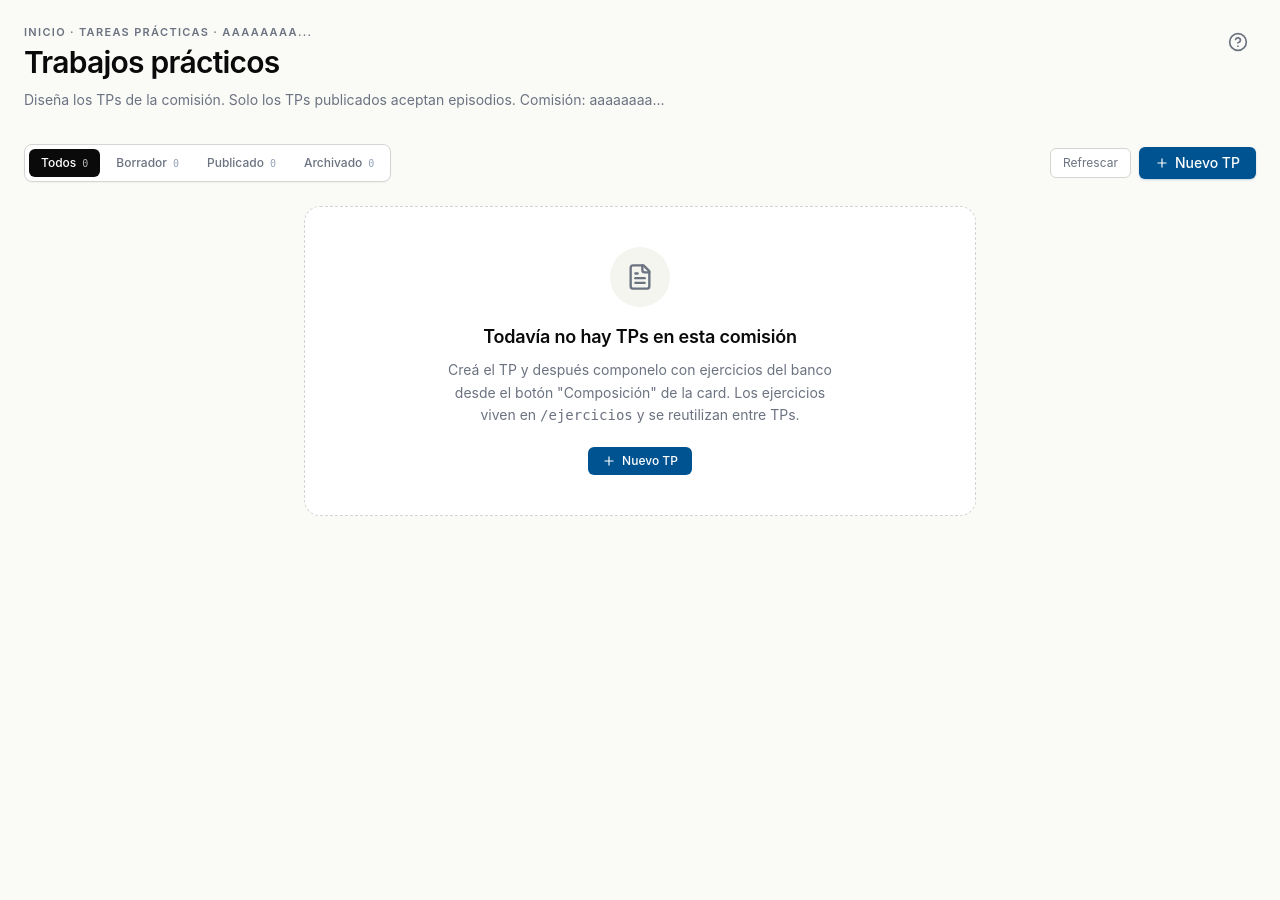
TareasPracticasView — BUG-01 el form de crear no arrastra datos › tambien resetea titulo y 'permite pausa' (no es un parche solo para codigo)
Click the 1st button "Nuevo TP".
click(1197, 163)  # box [1139,147,1256,179]
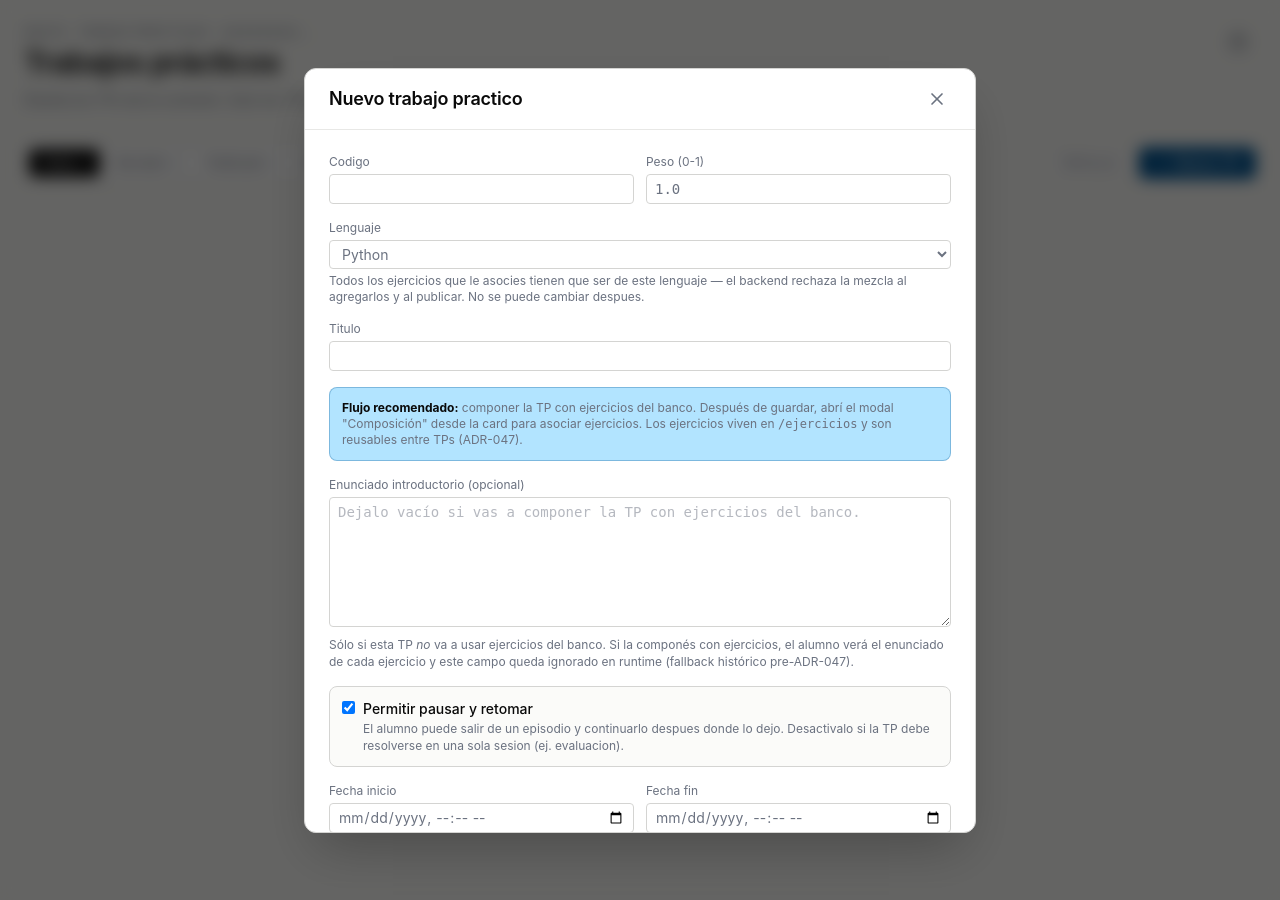
Now the checkbox with test id "tp-form-permite-pausa" is checked, box [342,701,355,714]
Type "Titulo del TP anterior" into the field with test id "tp-form-titulo".
click(640, 356); type("Titulo del TP anterior")  # box [329,340,951,370]
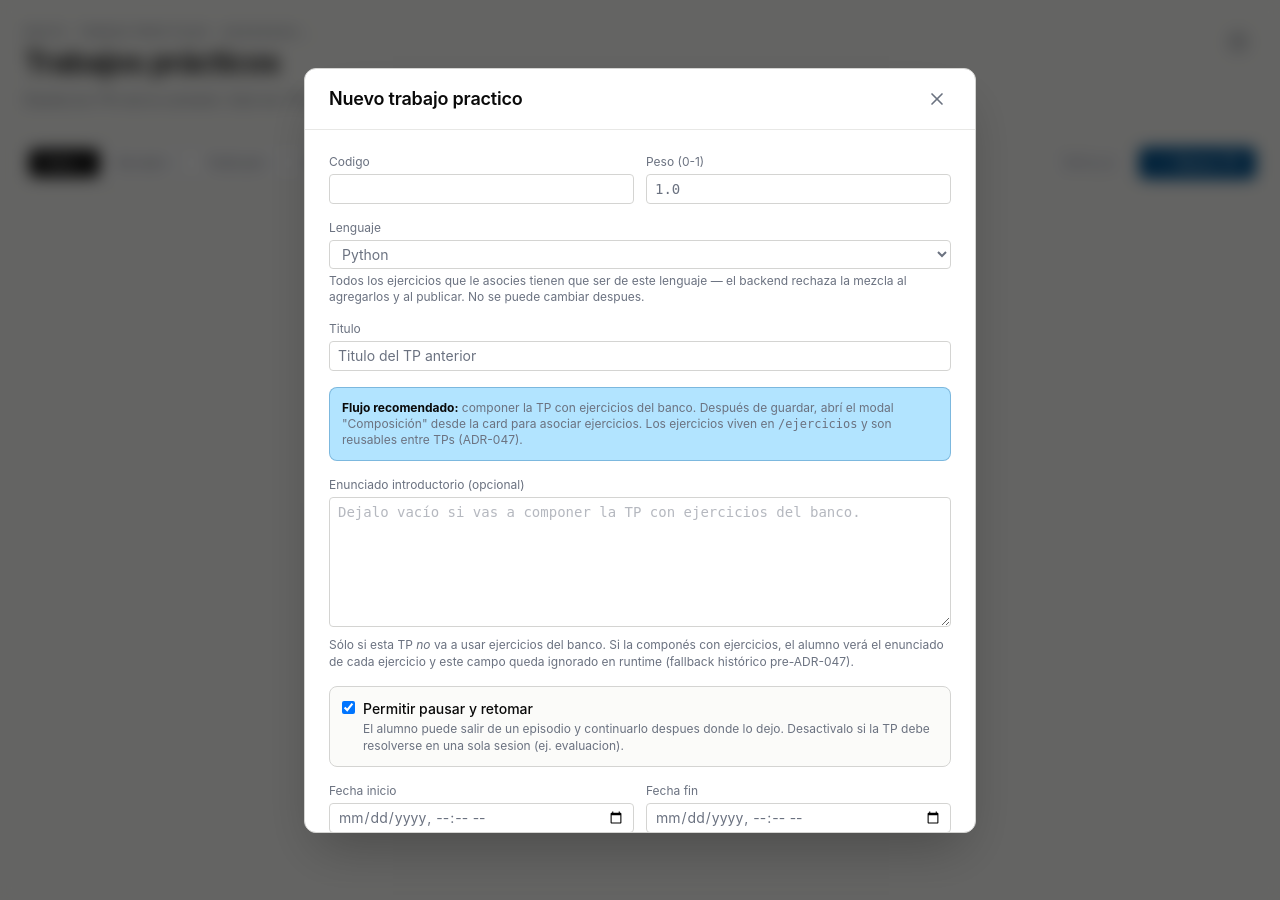
Click the checkbox with test id "tp-form-permite-pausa".
click(348, 708)  # box [342,701,355,714]
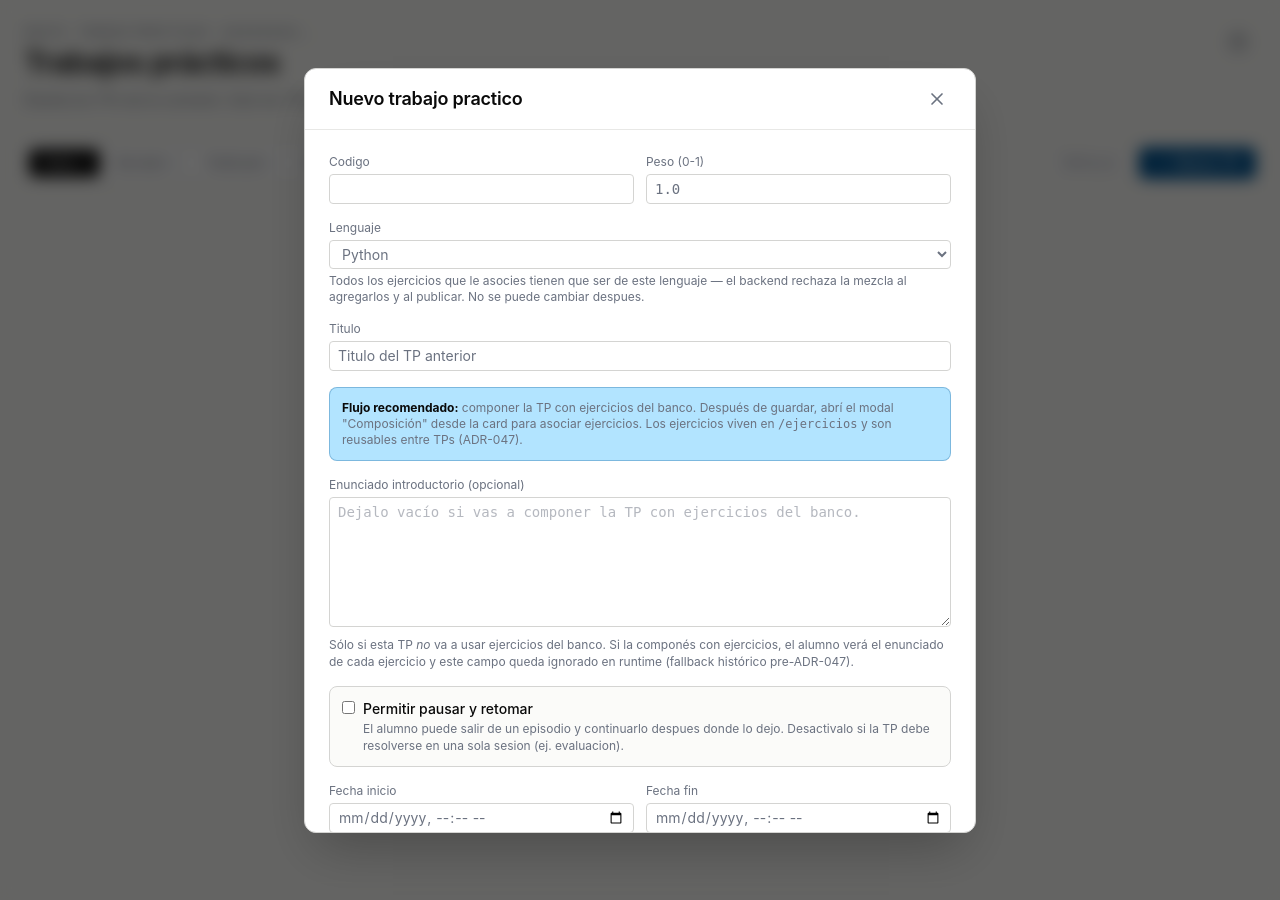
Now the checkbox with test id "tp-form-permite-pausa" is not checked, box [342,701,355,714]
Click the button named "Cerrar".
click(937, 98)  # box [923,84,951,112]
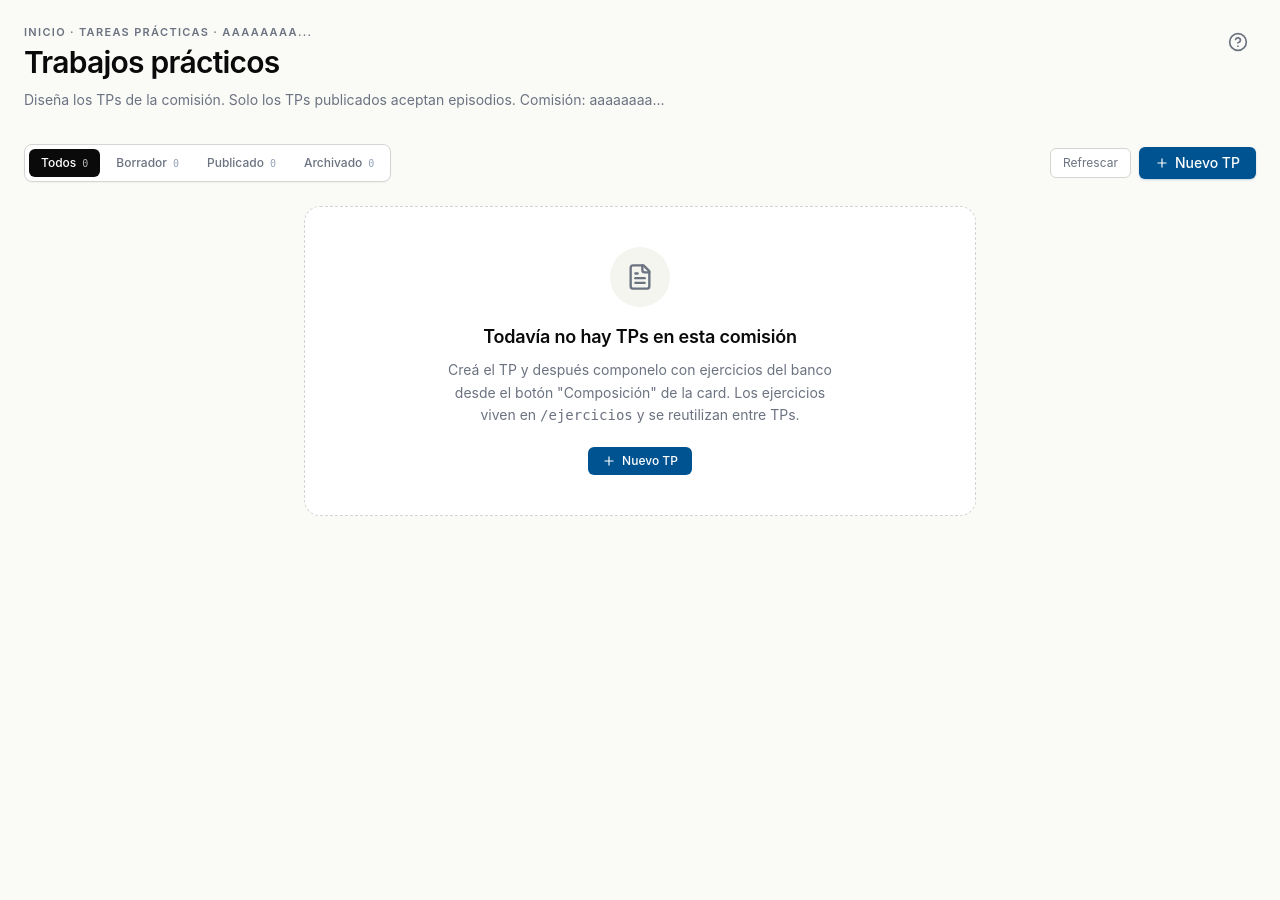
Now the field with test id "tp-form-titulo" is gone
Click the 1st button "Nuevo TP".
click(1197, 163)  # box [1139,147,1256,179]
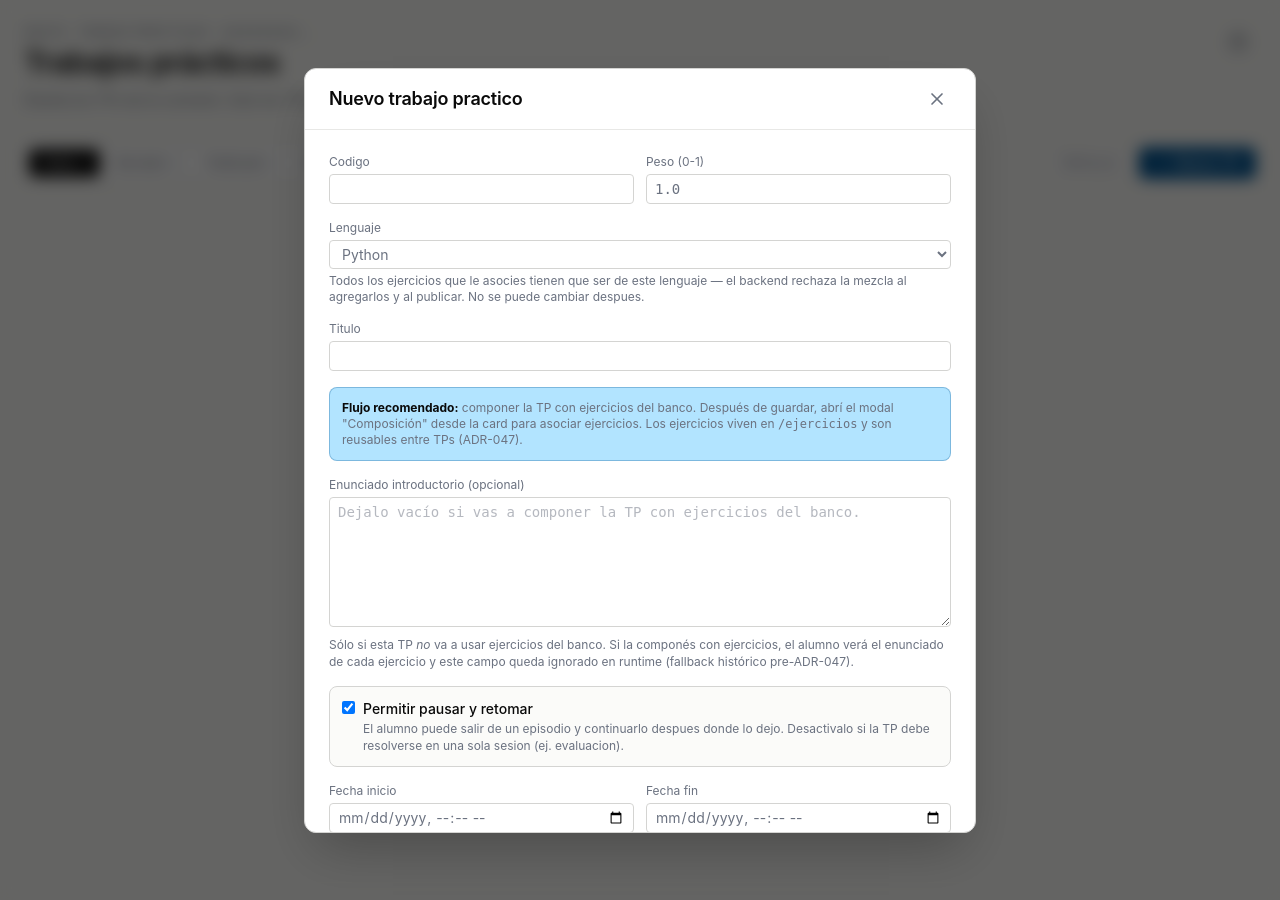
Now the field with test id "tp-form-titulo" is empty, box [329,340,951,370]
Now the checkbox with test id "tp-form-permite-pausa" is checked, box [342,701,355,714]
